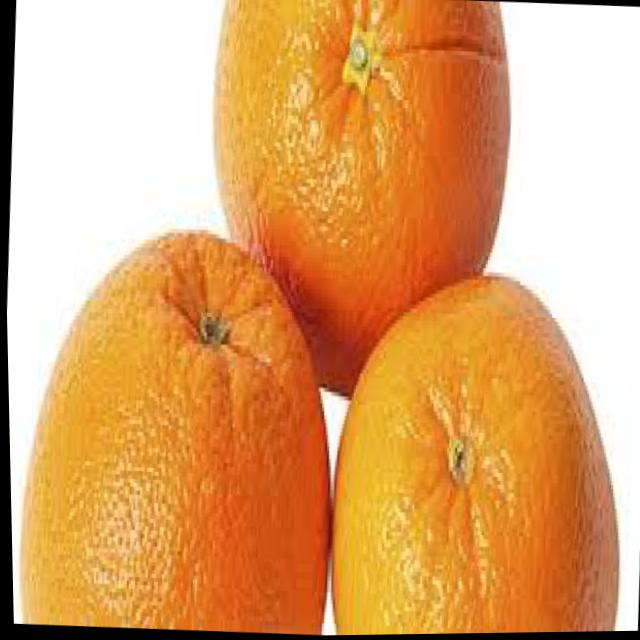orange: (6, 215, 346, 640), (193, 0, 519, 405), (322, 266, 628, 636)
